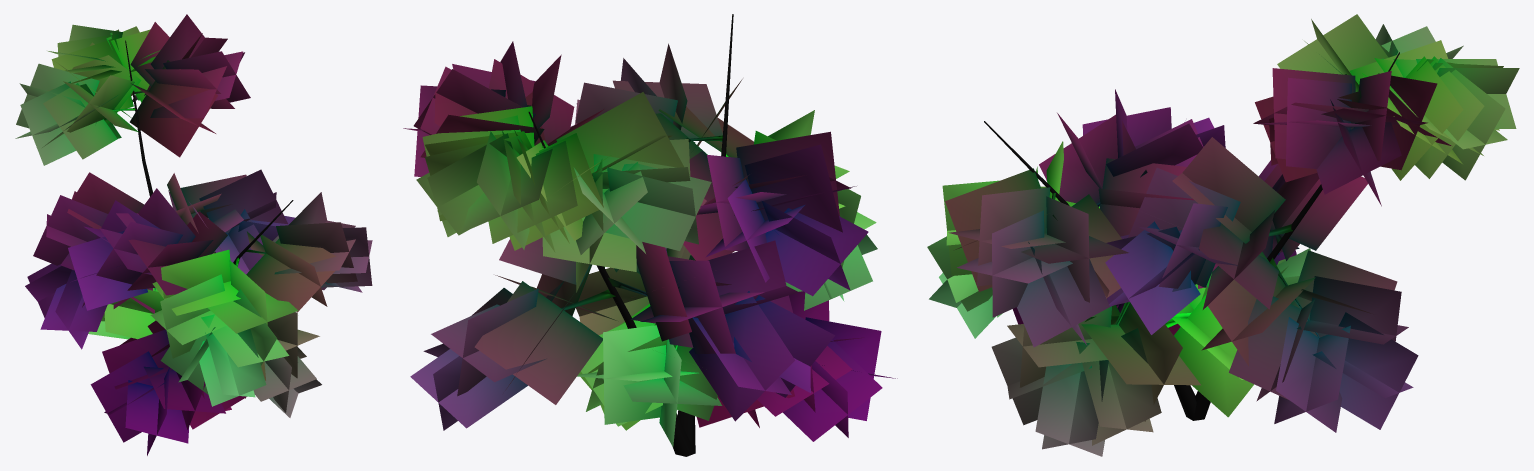
File: URP_P14_Tree_9_LOD_3.fbx
3 renders of one model, left to right at view 1: azimuth 30°, elevation 25°; view 2: azimuth 150°, elevation 25°; view 3: azimuth 270°, elevation 25°, orthographic. The views are drawn at different scales.
Visible parts, largest first — view 1: Tree_9_LOD_3; view 2: Tree_9_LOD_3; view 3: Tree_9_LOD_3.
Part boxes in pixels (x1,y1,x2,y2): Tree_9_LOD_3: (15, 14, 372, 455); Tree_9_LOD_3: (403, 14, 897, 456); Tree_9_LOD_3: (927, 14, 1519, 456).
Bounding box in the file's own units: 397 × 451 × 595.
